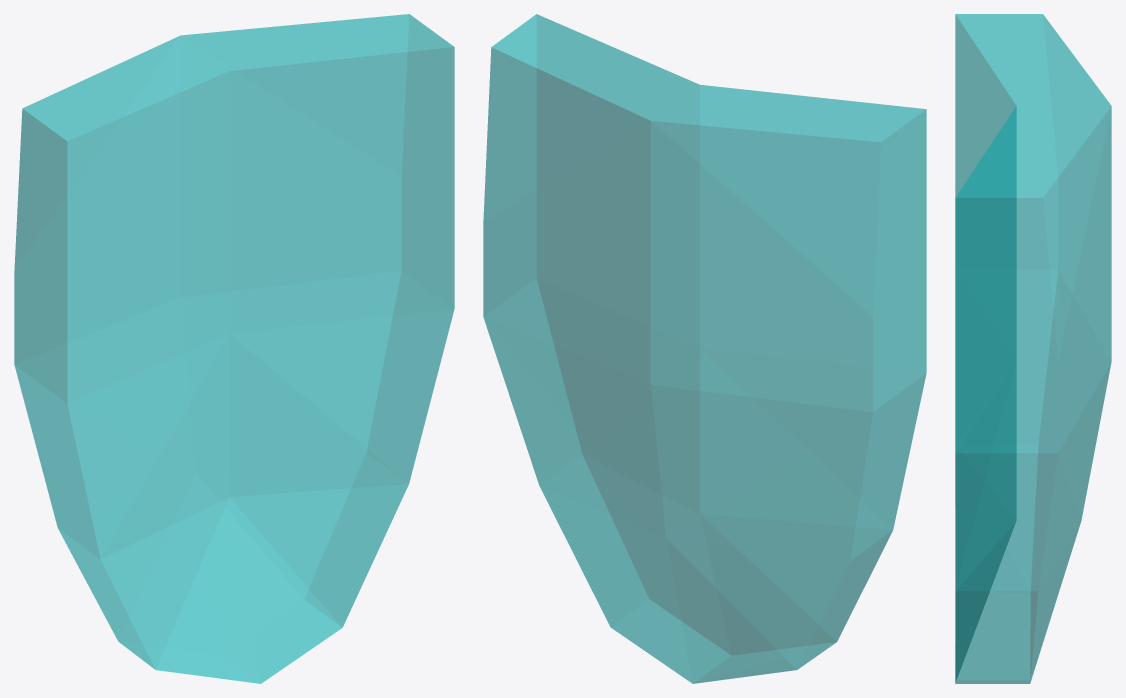
File: barrier.obj
The picture shows the model from 3 angles, left to right: view 1: azimuth 30°, elevation 25°; view 2: azimuth 150°, elevation 25°; view 3: azimuth 270°, elevation 25°; orthographic projection. The views are drawn at different scales.
Parts seen in each view (by area): view 1: Cube; view 2: Cube; view 3: Cube.
Boxes of the visible parts, x1,y1,x2,y2 form: Cube: [14, 14, 454, 683]; Cube: [483, 14, 926, 683]; Cube: [955, 14, 1111, 683].
Size of the model in its own units: 3.09 by 4.49 by 1.11.
